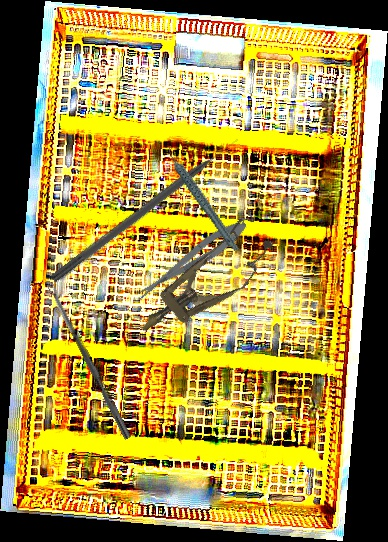Handpiece: (166, 136, 240, 261)
Micro Scissor: (130, 214, 252, 305)
Pusher: (49, 135, 243, 286)
Speculum: (124, 209, 286, 353)
Surgical Spoon: (46, 282, 133, 440)
